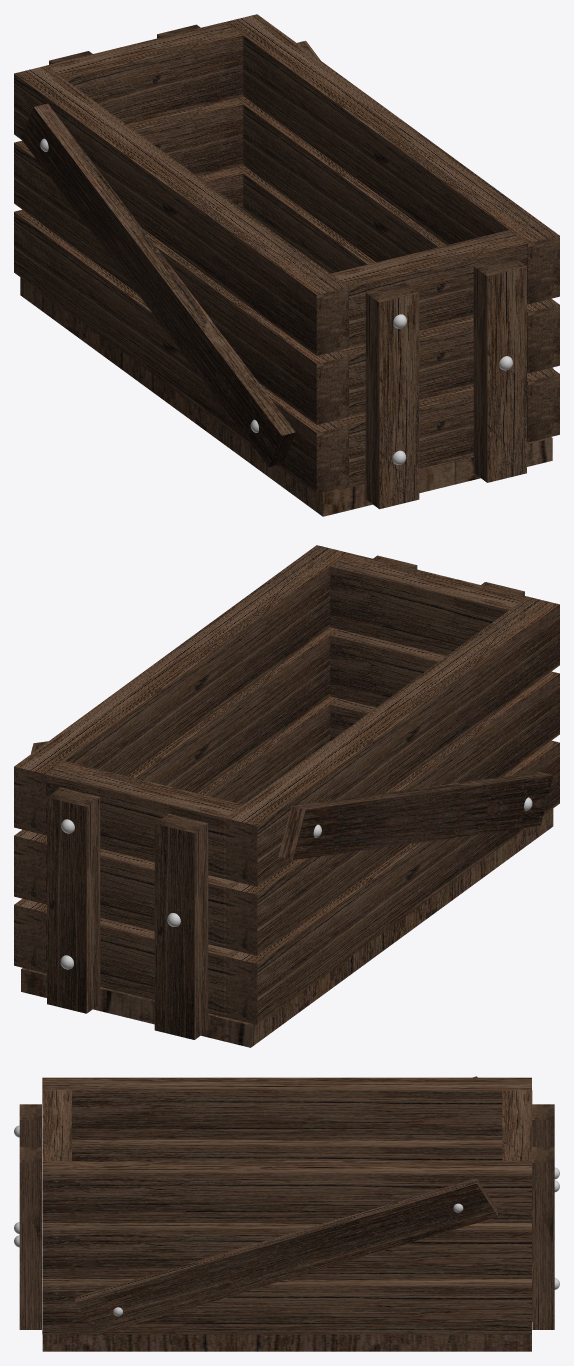
File: caja1.fbx
3 views of the same model, one above another, from view 1: azimuth 30°, elevation 25°; view 2: azimuth 150°, elevation 25°; view 3: azimuth 270°, elevation 25° (orthographic). The views are drawn at different scales.
Visible parts, largest first — view 1: base, pernos; view 2: base, pernos; view 3: base, pernos.
Boxes of the visible parts, x1,y1,x2,y2 form: base: (14,14,559,516); pernos: (40,138,512,464); base: (14,545,559,1047); pernos: (60,797,532,969); base: (19,1076,554,1351); pernos: (14,1125,559,1316).
Bounding box in the file's own units: 528 × 404 × 1107.
